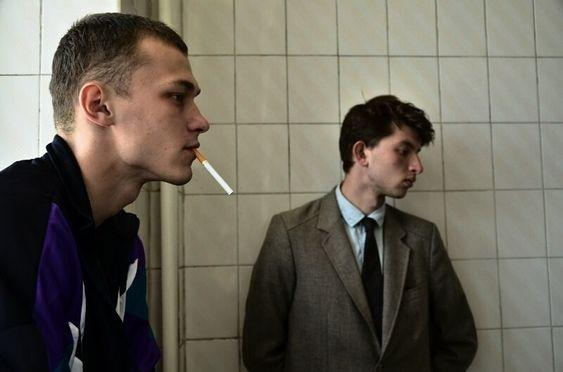cigarette: (192, 148, 234, 196)
